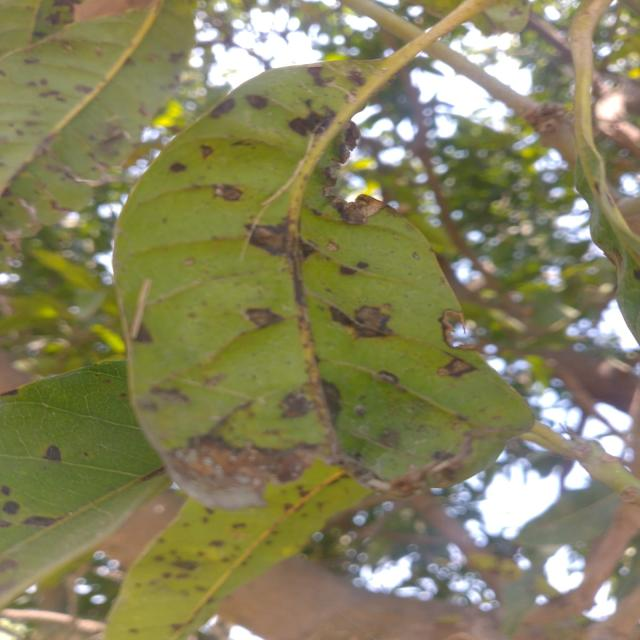Anthracnose: (160, 382, 330, 537), (331, 192, 389, 227), (436, 305, 474, 357), (288, 104, 339, 142), (249, 225, 297, 258), (352, 300, 393, 338), (320, 377, 346, 425), (246, 224, 286, 255), (278, 390, 312, 420), (242, 305, 284, 329), (437, 356, 477, 379), (211, 179, 244, 205), (150, 384, 191, 404), (325, 305, 357, 330), (208, 96, 238, 122), (306, 61, 330, 89), (133, 323, 158, 349), (22, 514, 59, 528), (346, 67, 368, 90), (203, 372, 228, 390), (344, 121, 359, 150), (44, 444, 65, 464), (245, 93, 269, 110), (376, 368, 400, 384), (0, 555, 20, 574), (2, 499, 21, 517), (380, 429, 399, 447), (300, 240, 317, 259), (74, 81, 93, 95), (433, 450, 455, 462), (172, 560, 198, 570), (324, 239, 340, 254), (0, 388, 19, 400), (200, 143, 214, 158), (169, 52, 185, 64), (340, 265, 357, 276), (356, 259, 369, 272), (170, 162, 186, 172), (354, 405, 366, 416), (411, 251, 421, 261), (232, 522, 246, 529), (0, 486, 10, 495), (183, 258, 195, 265), (0, 520, 12, 527)
